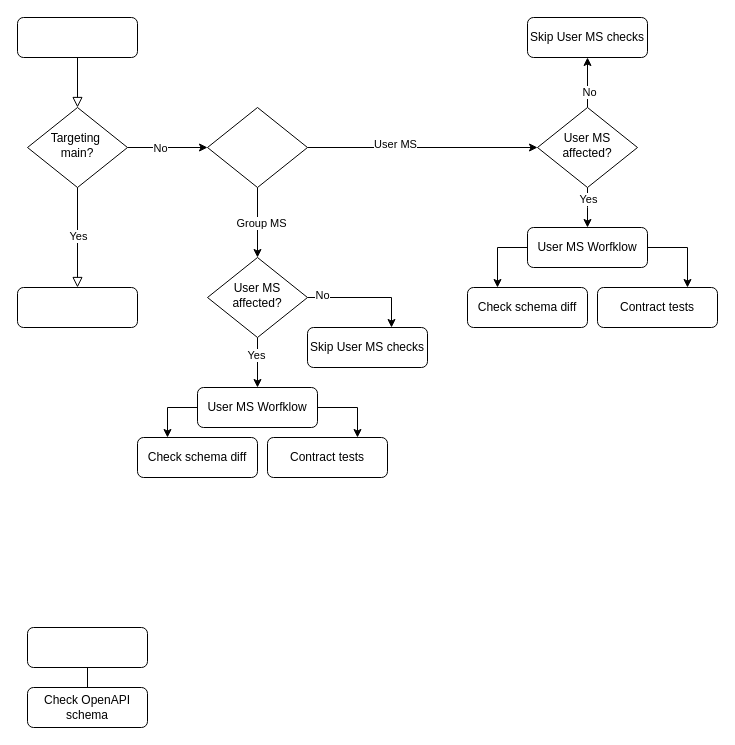
Image size: 735x745. Some labels were removed from this diagram. The centre of each missing label's shape, as x and y in pixels:
"Affected services" goes at [257,147].
"Commit pushed" goes at [77,37].
"Pull request open" goes at [87,647].
"Run all checks" goes at [77,307].
